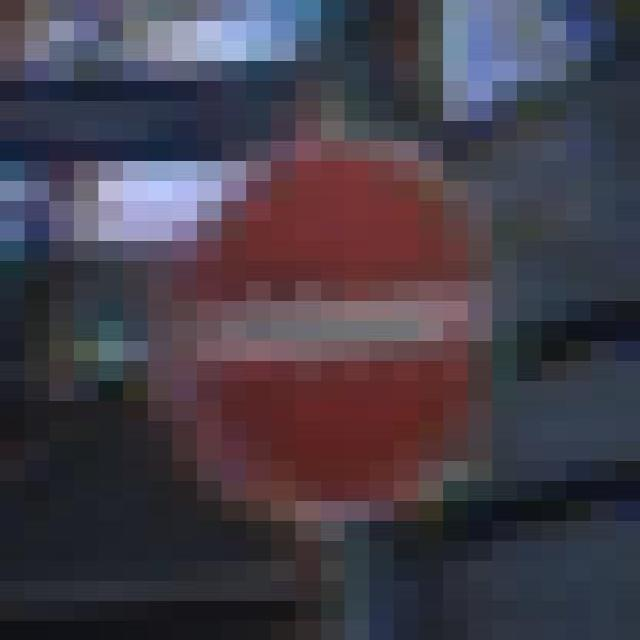No Entry: (85, 121, 577, 561)
